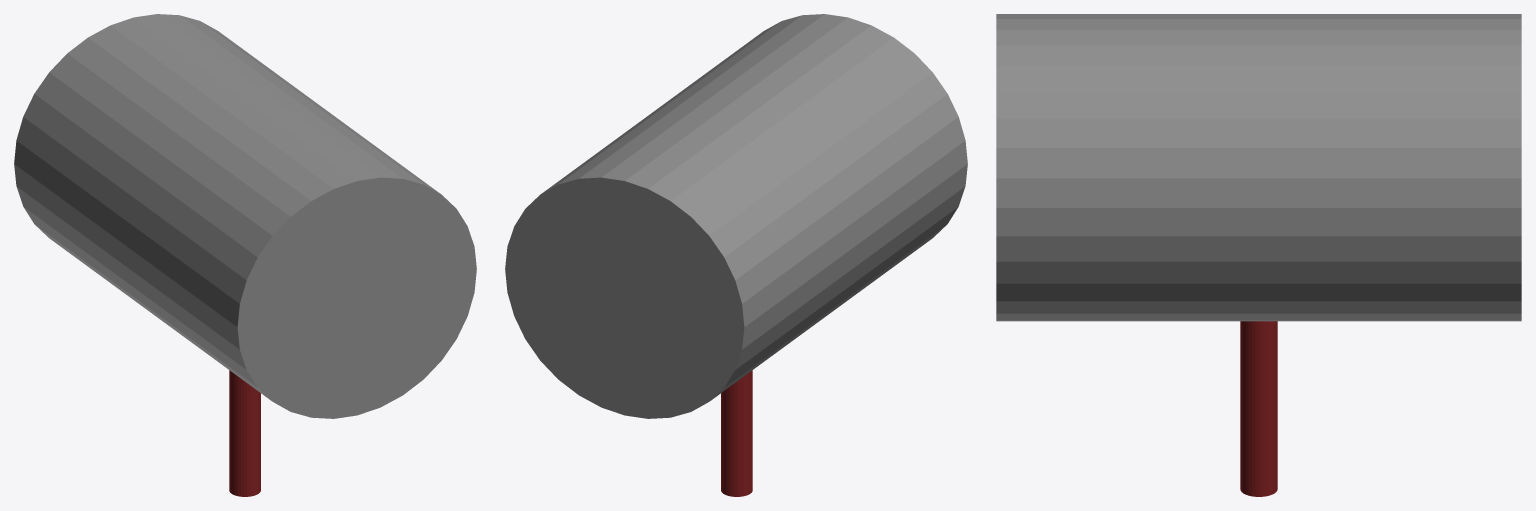
Rendered from Hammer.obj.
3 renders of one model, left to right at view 1: azimuth 30°, elevation 25°; view 2: azimuth 150°, elevation 25°; view 3: azimuth 270°, elevation 25°, orthographic. The views are drawn at different scales.
Visible parts, largest first — view 1: 円柱.001, 円柱; view 2: 円柱.001, 円柱; view 3: 円柱.001, 円柱.
Boxes of the visible parts, box(x1,y1,x2,y2) form: 円柱.001: box(14, 14, 476, 418); 円柱: box(229, 370, 260, 496); 円柱.001: box(505, 14, 967, 418); 円柱: box(721, 370, 752, 496); 円柱.001: box(996, 14, 1521, 321); 円柱: box(1240, 321, 1277, 496).
Bounding box in the file's own units: 9.77 × 15.25 × 15.8.
2 materials, 2 textured.
